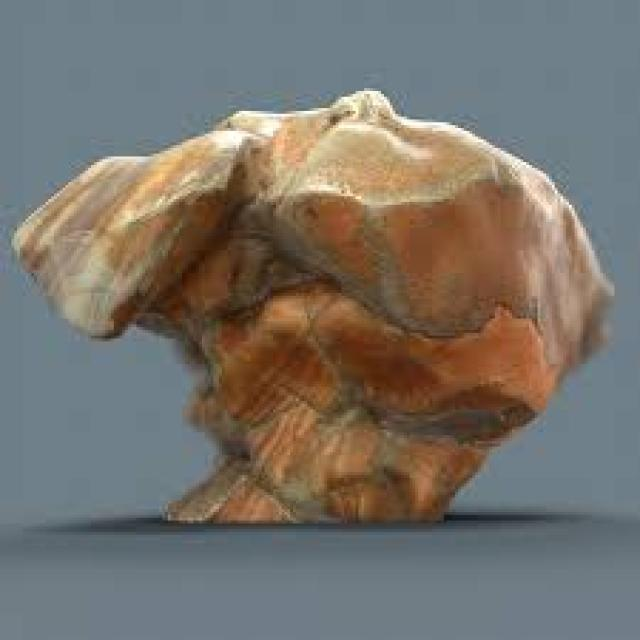Metamorphic: (11, 85, 612, 560)
